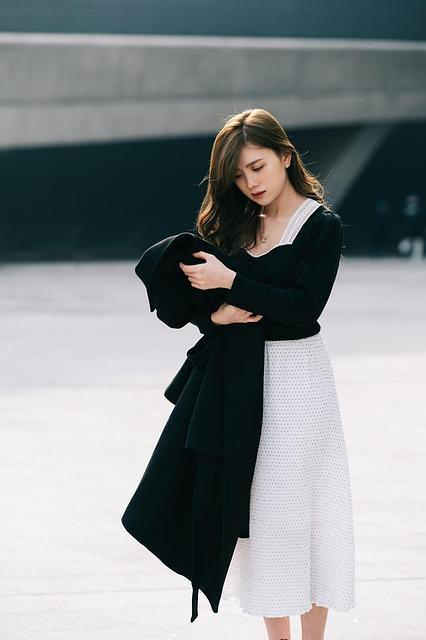Non_Gorille: (5, 59, 426, 598)
